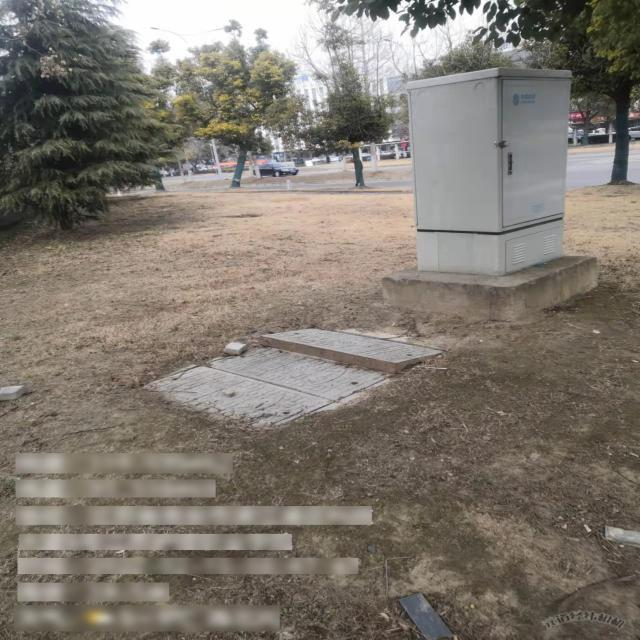Faulty: (136, 325, 444, 435)
